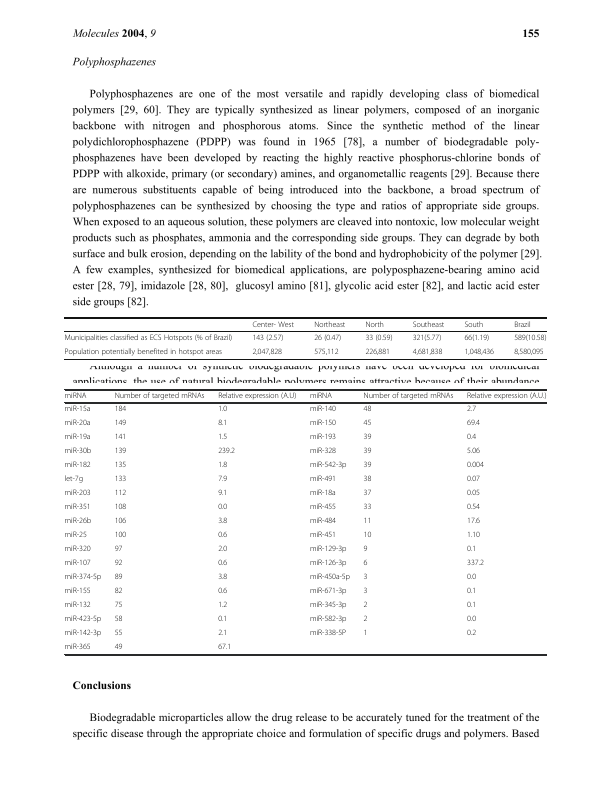borderless: (63, 388, 546, 654), (64, 316, 547, 359)
cell: (64, 333, 233, 343), (64, 347, 223, 357), (362, 392, 454, 401), (114, 392, 205, 401), (466, 392, 547, 401), (217, 392, 297, 401), (309, 573, 351, 583), (251, 320, 295, 329), (309, 461, 347, 471), (309, 545, 347, 555), (309, 559, 347, 569), (64, 573, 102, 583), (309, 587, 347, 597), (309, 601, 347, 611), (64, 615, 102, 625), (309, 615, 347, 625), (64, 629, 102, 639), (309, 629, 347, 639), (513, 333, 547, 343), (251, 333, 284, 343), (251, 347, 283, 357), (463, 347, 495, 357), (513, 347, 545, 357), (412, 347, 443, 357), (412, 333, 442, 343), (313, 320, 346, 329), (412, 320, 445, 329), (313, 333, 342, 343), (364, 333, 393, 343), (309, 405, 337, 415), (309, 419, 337, 429), (309, 433, 337, 443), (64, 447, 92, 457), (309, 447, 337, 457), (309, 475, 337, 485), (309, 489, 337, 499), (309, 503, 337, 513), (64, 517, 92, 527), (309, 517, 337, 527), (309, 531, 337, 541), (64, 405, 91, 415), (64, 419, 91, 429), (64, 433, 91, 443), (64, 461, 91, 471), (64, 489, 91, 499), (64, 503, 91, 513), (64, 545, 91, 555), (64, 559, 91, 569), (64, 587, 91, 597), (64, 601, 91, 611), (64, 643, 91, 653), (463, 333, 490, 343), (364, 347, 391, 357), (313, 347, 339, 357), (64, 531, 88, 541), (309, 392, 333, 401), (64, 392, 87, 401), (64, 475, 84, 485), (217, 447, 236, 457), (466, 461, 485, 471), (466, 559, 485, 569), (364, 320, 385, 329), (463, 320, 484, 329), (513, 320, 532, 329), (466, 419, 481, 429), (466, 447, 481, 457), (466, 475, 481, 485), (466, 489, 481, 499), (466, 503, 481, 513), (466, 517, 481, 527), (466, 531, 481, 541), (217, 643, 232, 653), (114, 405, 127, 415), (114, 419, 127, 429), (114, 433, 127, 443), (114, 447, 127, 457), (114, 461, 127, 471), (114, 475, 127, 485), (114, 489, 127, 499), (114, 503, 127, 513), (114, 517, 127, 527), (114, 531, 127, 541), (217, 405, 228, 415), (466, 405, 477, 415), (217, 419, 228, 429), (217, 433, 228, 443), (466, 433, 477, 443), (217, 461, 228, 471), (217, 475, 228, 485), (217, 489, 228, 499), (217, 503, 228, 513), (217, 517, 228, 527), (217, 531, 228, 541), (217, 545, 228, 555), (466, 545, 477, 555), (217, 559, 228, 569), (217, 573, 228, 583), (466, 573, 477, 583), (217, 587, 228, 597), (466, 587, 477, 597), (217, 601, 228, 611), (466, 601, 477, 611), (217, 615, 228, 625), (466, 615, 477, 625), (217, 629, 228, 639), (466, 629, 477, 639), (362, 405, 372, 415), (362, 419, 372, 429), (362, 433, 372, 443), (362, 447, 372, 457), (362, 461, 372, 471), (362, 475, 372, 485), (362, 489, 372, 499), (362, 503, 372, 513), (362, 517, 372, 527), (362, 531, 372, 541), (114, 545, 123, 555), (114, 559, 123, 569), (114, 573, 123, 583), (114, 587, 123, 597), (114, 601, 123, 611), (114, 615, 123, 625), (114, 629, 123, 639), (114, 643, 123, 653), (362, 545, 368, 555), (362, 559, 368, 569), (362, 573, 368, 583), (362, 587, 368, 597), (362, 601, 368, 611), (362, 615, 368, 625), (362, 629, 368, 639)
